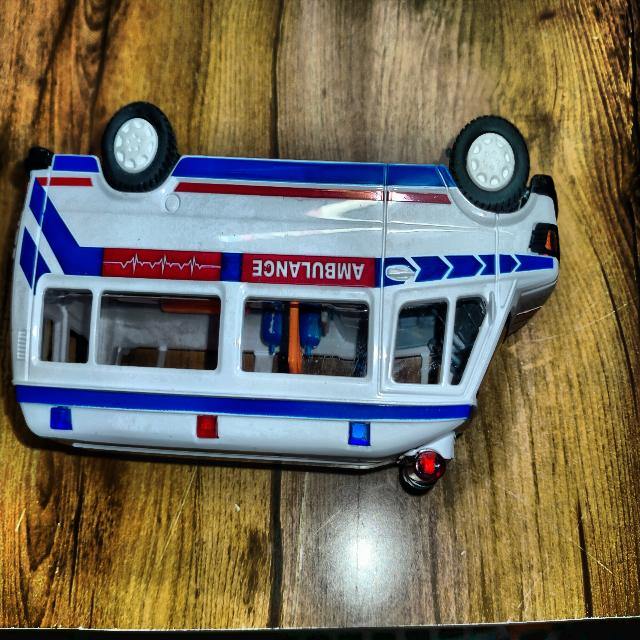Ambulance: (11, 102, 559, 490)
